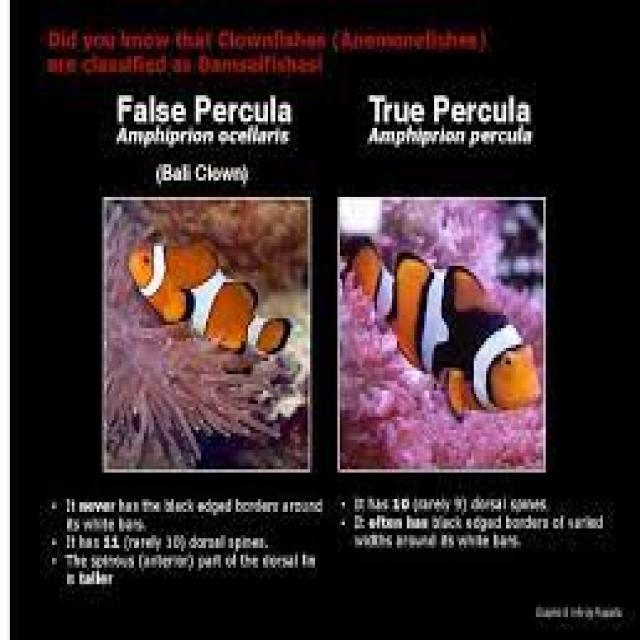ClownFish: (339, 226, 542, 429), (126, 225, 293, 371)
